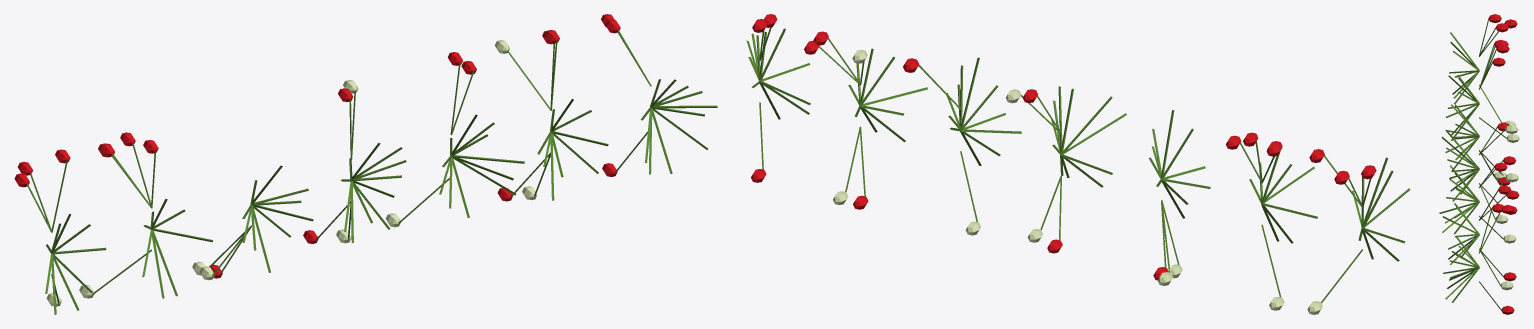
File: r30c5_rest.obj
3 views of the same model, side by side, from view 1: azimuth 30°, elevation 25°; view 2: azimuth 150°, elevation 25°; view 3: azimuth 270°, elevation 25° (orthographic). The views are drawn at different scales.
Visible parts, largest first — view 1: r30c5_rest; view 2: r30c5_rest; view 3: r30c5_rest.
Part boxes in pixels (x1,y1,x2,y2): r30c5_rest: (14,14,717,314); r30c5_rest: (746,14,1410,314); r30c5_rest: (1439,14,1519,314).
Size of the model in its own units: 1.67 by 0.3963 by 0.2604.
